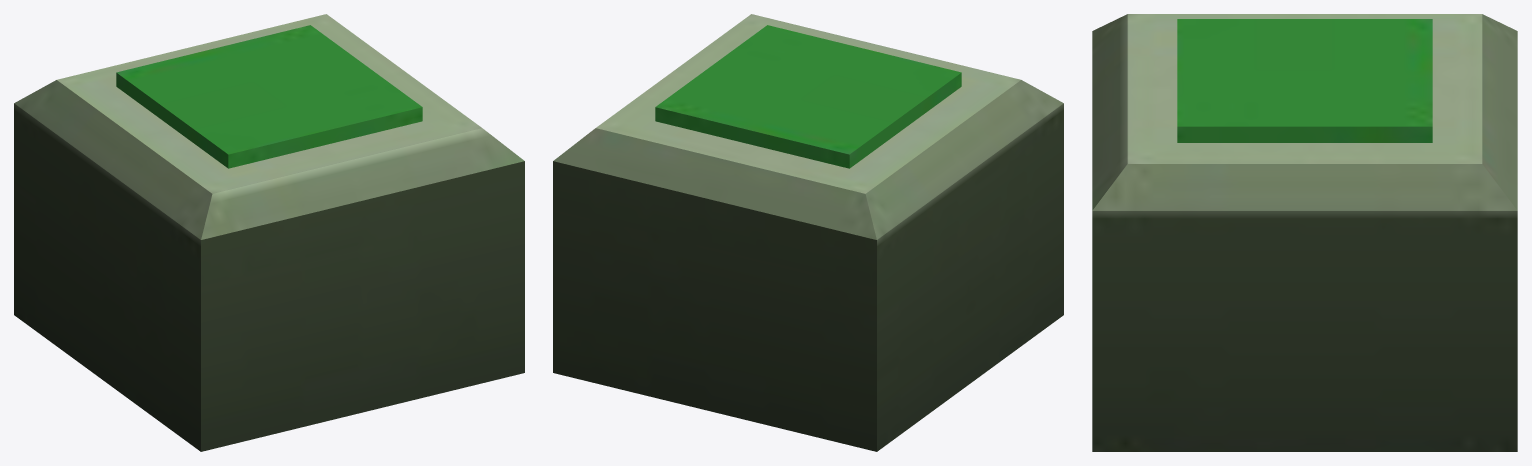
Rendered from centrifuge.glb.
3 renders of one model, left to right at view 1: azimuth 30°, elevation 25°; view 2: azimuth 150°, elevation 25°; view 3: azimuth 270°, elevation 25°, orthographic. The views are drawn at different scales.
Parts seen in each view (by area): view 1: centrifuge; view 2: centrifuge; view 3: centrifuge.
Part boxes in pixels (<box>): centrifuge: <box>14,14,524,451</box>; centrifuge: <box>553,14,1063,451</box>; centrifuge: <box>1092,14,1517,451</box>.
Bounding box in the file's own units: 0.24 × 0.18 × 0.24.
Materials: 1 (1 with a texture image).
